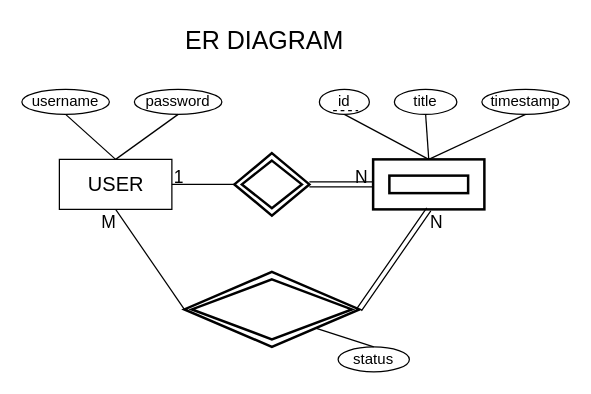
This 591x394 diagram has some shape labels left out. The shapes that lost their labels are listed below. From the top down, each one's centre as x and y in pixels, then its label:
[271,183]: HAS
[428,184]: IMAGE
[271,309]: CONTRIBUTE
